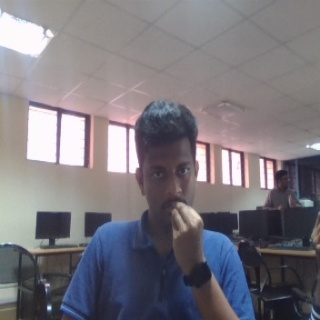Food: (167, 198, 205, 276)
